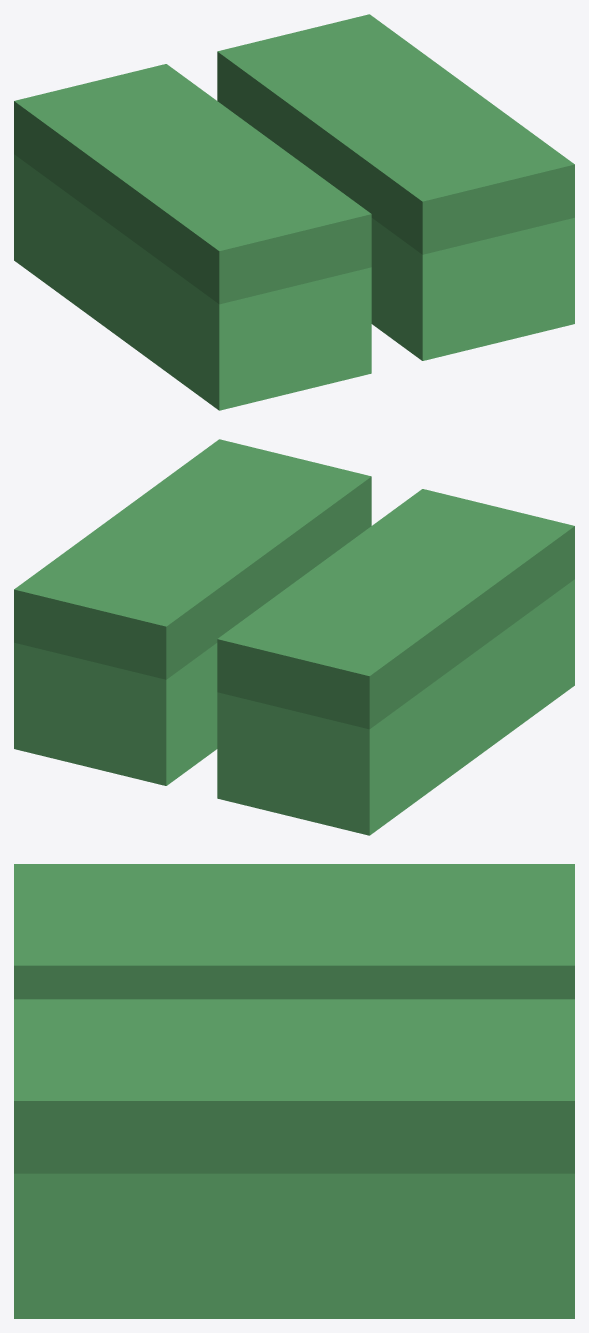
The model's file is legendario_zapatos_goblin_01.glb.
3 renders of one model, top to bottom at view 1: azimuth 30°, elevation 25°; view 2: azimuth 150°, elevation 25°; view 3: azimuth 270°, elevation 25°, orthographic. The views are drawn at different scales.
Parts seen in each view (by area): view 1: legendario_zapatos_goblin; view 2: legendario_zapatos_goblin; view 3: legendario_zapatos_goblin.
Part boxes in pixels (x1=…): legendario_zapatos_goblin: x1=14, y1=14, x2=574, y2=410; legendario_zapatos_goblin: x1=14, y1=439, x2=574, y2=835; legendario_zapatos_goblin: x1=14, y1=864, x2=574, y2=1318.
Bounding box in the file's own units: 0.5833 × 0.25 × 0.5833.
